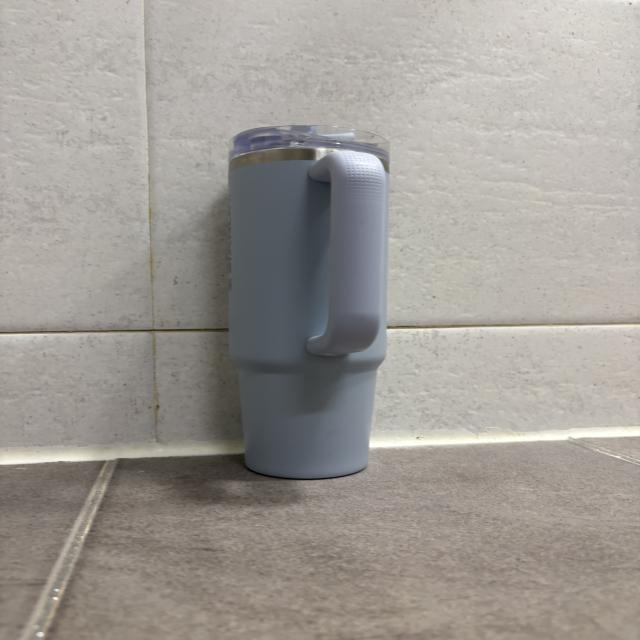waterbottle: (228, 124, 390, 480)
